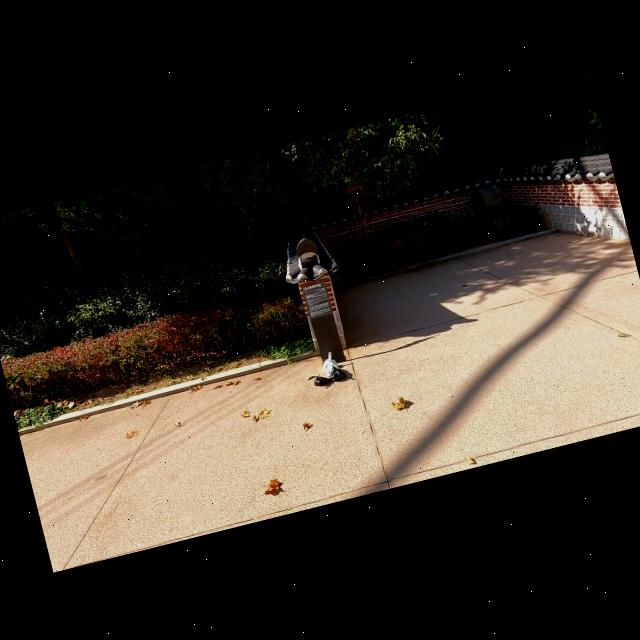trash: (317, 353, 346, 378), (306, 370, 334, 390), (324, 359, 348, 382), (317, 349, 338, 373)
